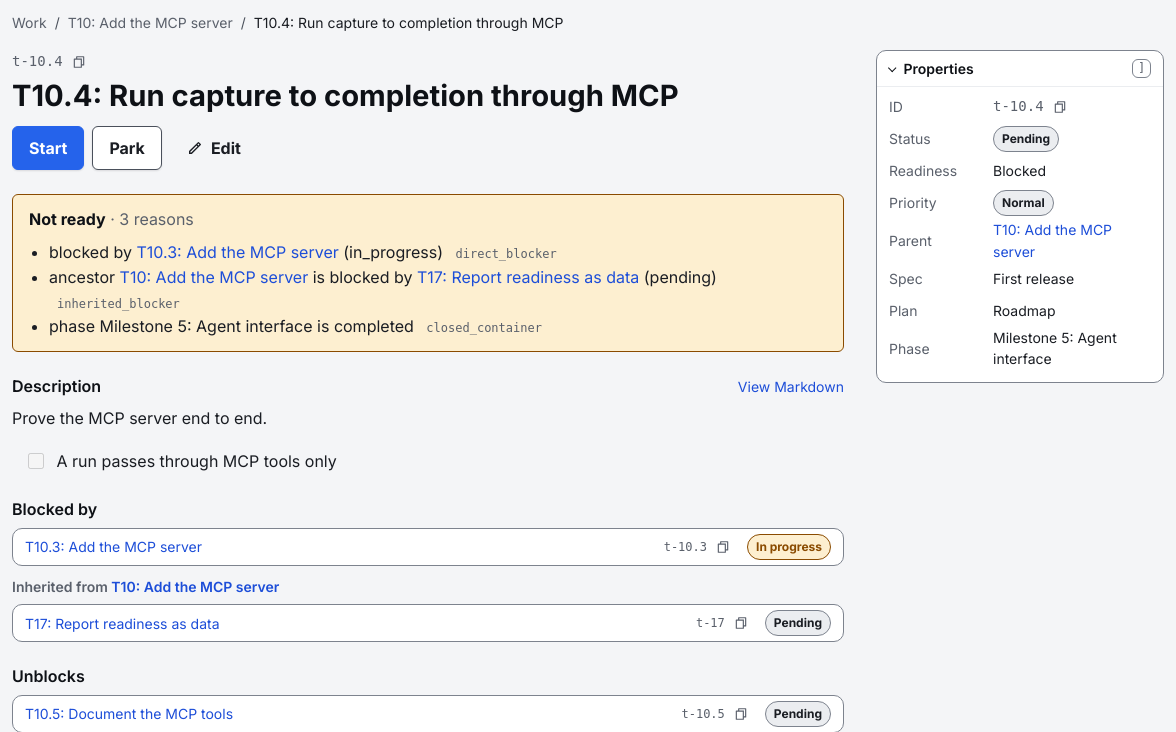
Scenario: TaskDetail IDs › puts a copy button on the task's ID, its properties and its related tasks
Click the button named "Copy ID".
click(79, 62)  # box [67,50,91,74]
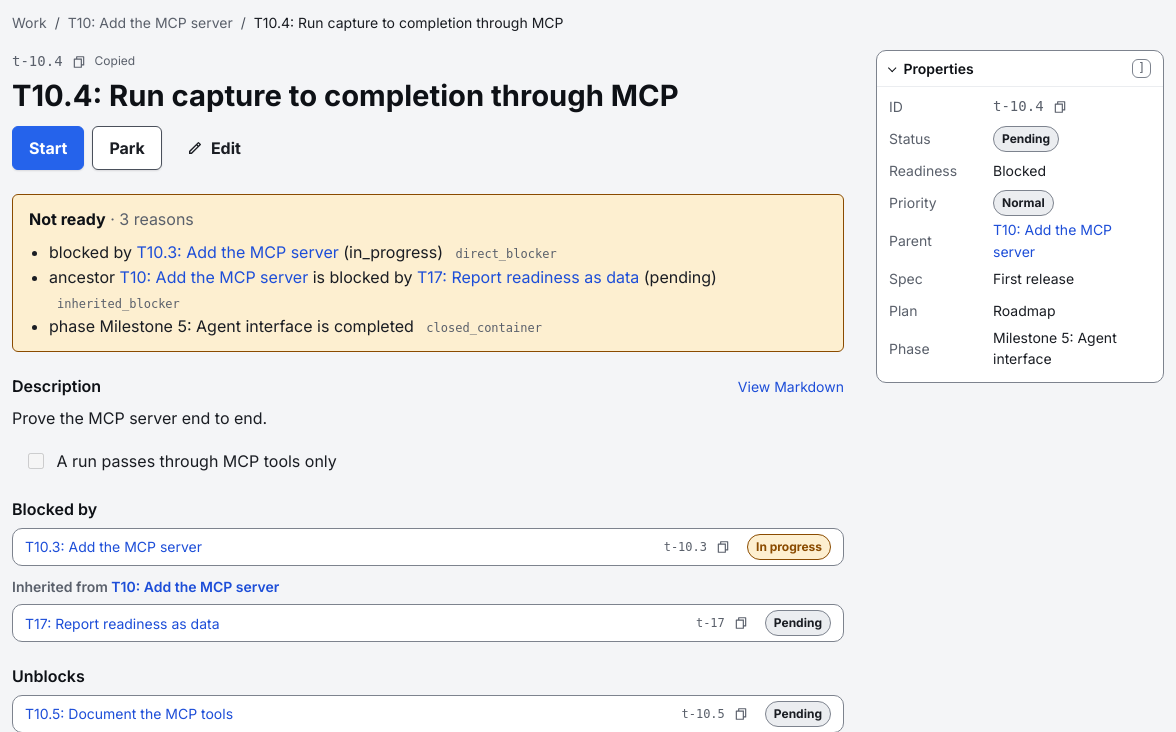
expect the 2nd element showing "t-10.4" is shown: met, box [993,96,1044,118]
expect the message "Copied" is shown: met, box [95,52,135,71]
